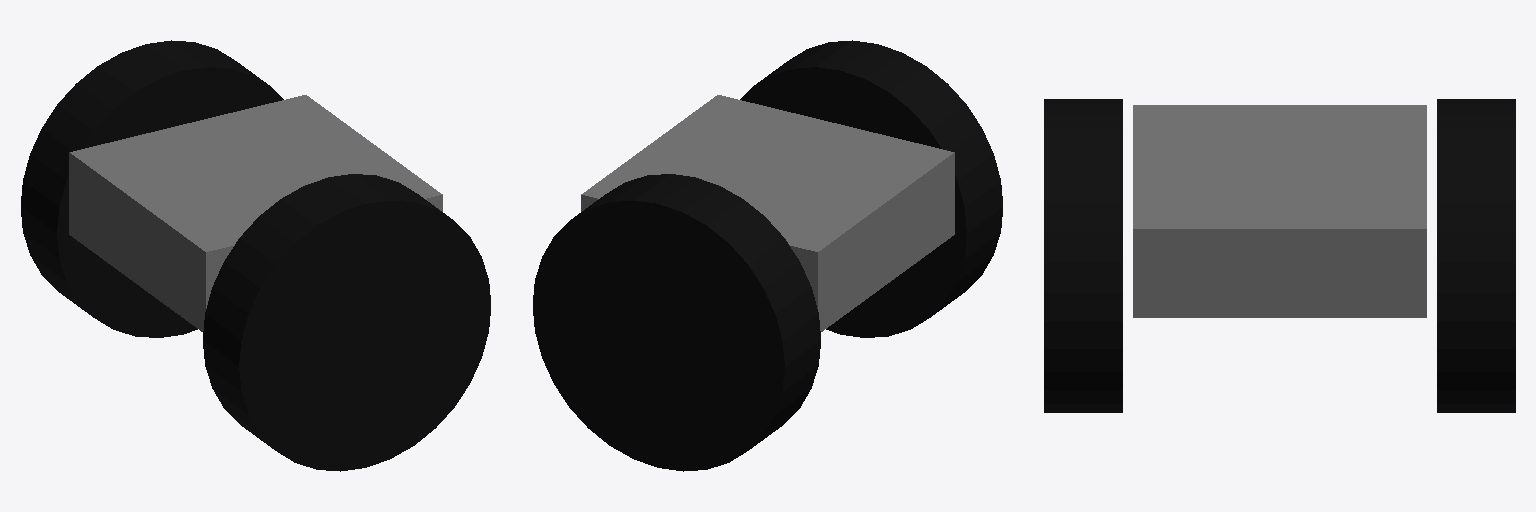
robot.urdf — continuous_joints_robot:
<?xml version="1.0"?>
<!-- Robot with continuous (unlimited rotation) joints for testing -->
<robot name="continuous_joints_robot">
  <link name="base_link">
    <visual>
      <geometry>
        <box size="0.15 0.15 0.05"/>
      </geometry>
      <material name="gray">
        <color rgba="0.5 0.5 0.5 1"/>
      </material>
    </visual>
    <inertial>
      <mass value="2.0"/>
      <inertia ixx="0.01" ixy="0" ixz="0" iyy="0.01" iyz="0" izz="0.015"/>
    </inertial>
  </link>

  <!-- Wheel links -->
  <link name="wheel1">
    <visual>
      <geometry>
        <cylinder radius="0.08" length="0.04"/>
      </geometry>
      <origin xyz="0 0 0" rpy="1.5708 0 0"/>
      <material name="black">
        <color rgba="0.1 0.1 0.1 1"/>
      </material>
    </visual>
    <collision>
      <geometry>
        <cylinder radius="0.08" length="0.04"/>
      </geometry>
      <origin xyz="0 0 0" rpy="1.5708 0 0"/>
    </collision>
    <inertial>
      <mass value="0.5"/>
      <inertia ixx="0.001" ixy="0" ixz="0" iyy="0.002" iyz="0" izz="0.001"/>
    </inertial>
  </link>

  <link name="wheel2">
    <visual>
      <geometry>
        <cylinder radius="0.08" length="0.04"/>
      </geometry>
      <origin xyz="0 0 0" rpy="1.5708 0 0"/>
      <material name="black">
        <color rgba="0.1 0.1 0.1 1"/>
      </material>
    </visual>
    <collision>
      <geometry>
        <cylinder radius="0.08" length="0.04"/>
      </geometry>
      <origin xyz="0 0 0" rpy="1.5708 0 0"/>
    </collision>
    <inertial>
      <mass value="0.5"/>
      <inertia ixx="0.001" ixy="0" ixz="0" iyy="0.002" iyz="0" izz="0.001"/>
    </inertial>
  </link>

  <!-- Continuous joints (no limits) -->
  <joint name="wheel1_joint" type="continuous">
    <parent link="base_link"/>
    <child link="wheel1"/>
    <origin xyz="0 0.1 -0.025" rpy="0 0 0"/>
    <axis xyz="0 1 0"/>
    <dynamics damping="0.01" friction="0.001"/>
  </joint>

  <joint name="wheel2_joint" type="continuous">
    <parent link="base_link"/>
    <child link="wheel2"/>
    <origin xyz="0 -0.1 -0.025" rpy="0 0 0"/>
    <axis xyz="0 1 0"/>
    <dynamics damping="0.01" friction="0.001"/>
  </joint>
</robot>

--- What the picture shows (computed from the rendered views, not written in the file) ---
3 views of the same robot in one strip: view 1: azimuth 30°, elevation 25°; view 2: azimuth 150°, elevation 25°; view 3: azimuth 270°, elevation 25° (orthographic).
Robot: continuous_joints_robot — 3 links, 2 joints (2 continuous); root link base_link; default pose: every joint at zero.
Links seen in each view (by area): view 1: wheel2, base_link, wheel1; view 2: wheel1, base_link, wheel2; view 3: base_link, wheel1, wheel2.
Boxes of the visible links, left/top/right/bottom form: wheel2: left=203, top=174, right=490, bottom=471; base_link: left=69, top=95, right=442, bottom=331; wheel1: left=21, top=40, right=283, bottom=337; wheel1: left=533, top=174, right=820, bottom=471; base_link: left=581, top=95, right=954, bottom=331; wheel2: left=740, top=40, right=1002, bottom=337; base_link: left=1133, top=105, right=1426, bottom=317; wheel1: left=1437, top=99, right=1515, bottom=412; wheel2: left=1044, top=99, right=1122, bottom=412.
Bounding box of the posed robot: 0.16 × 0.24 × 0.16 m (x, y, z).
Geometry: primitives only (box / cylinder / sphere), no mesh files.